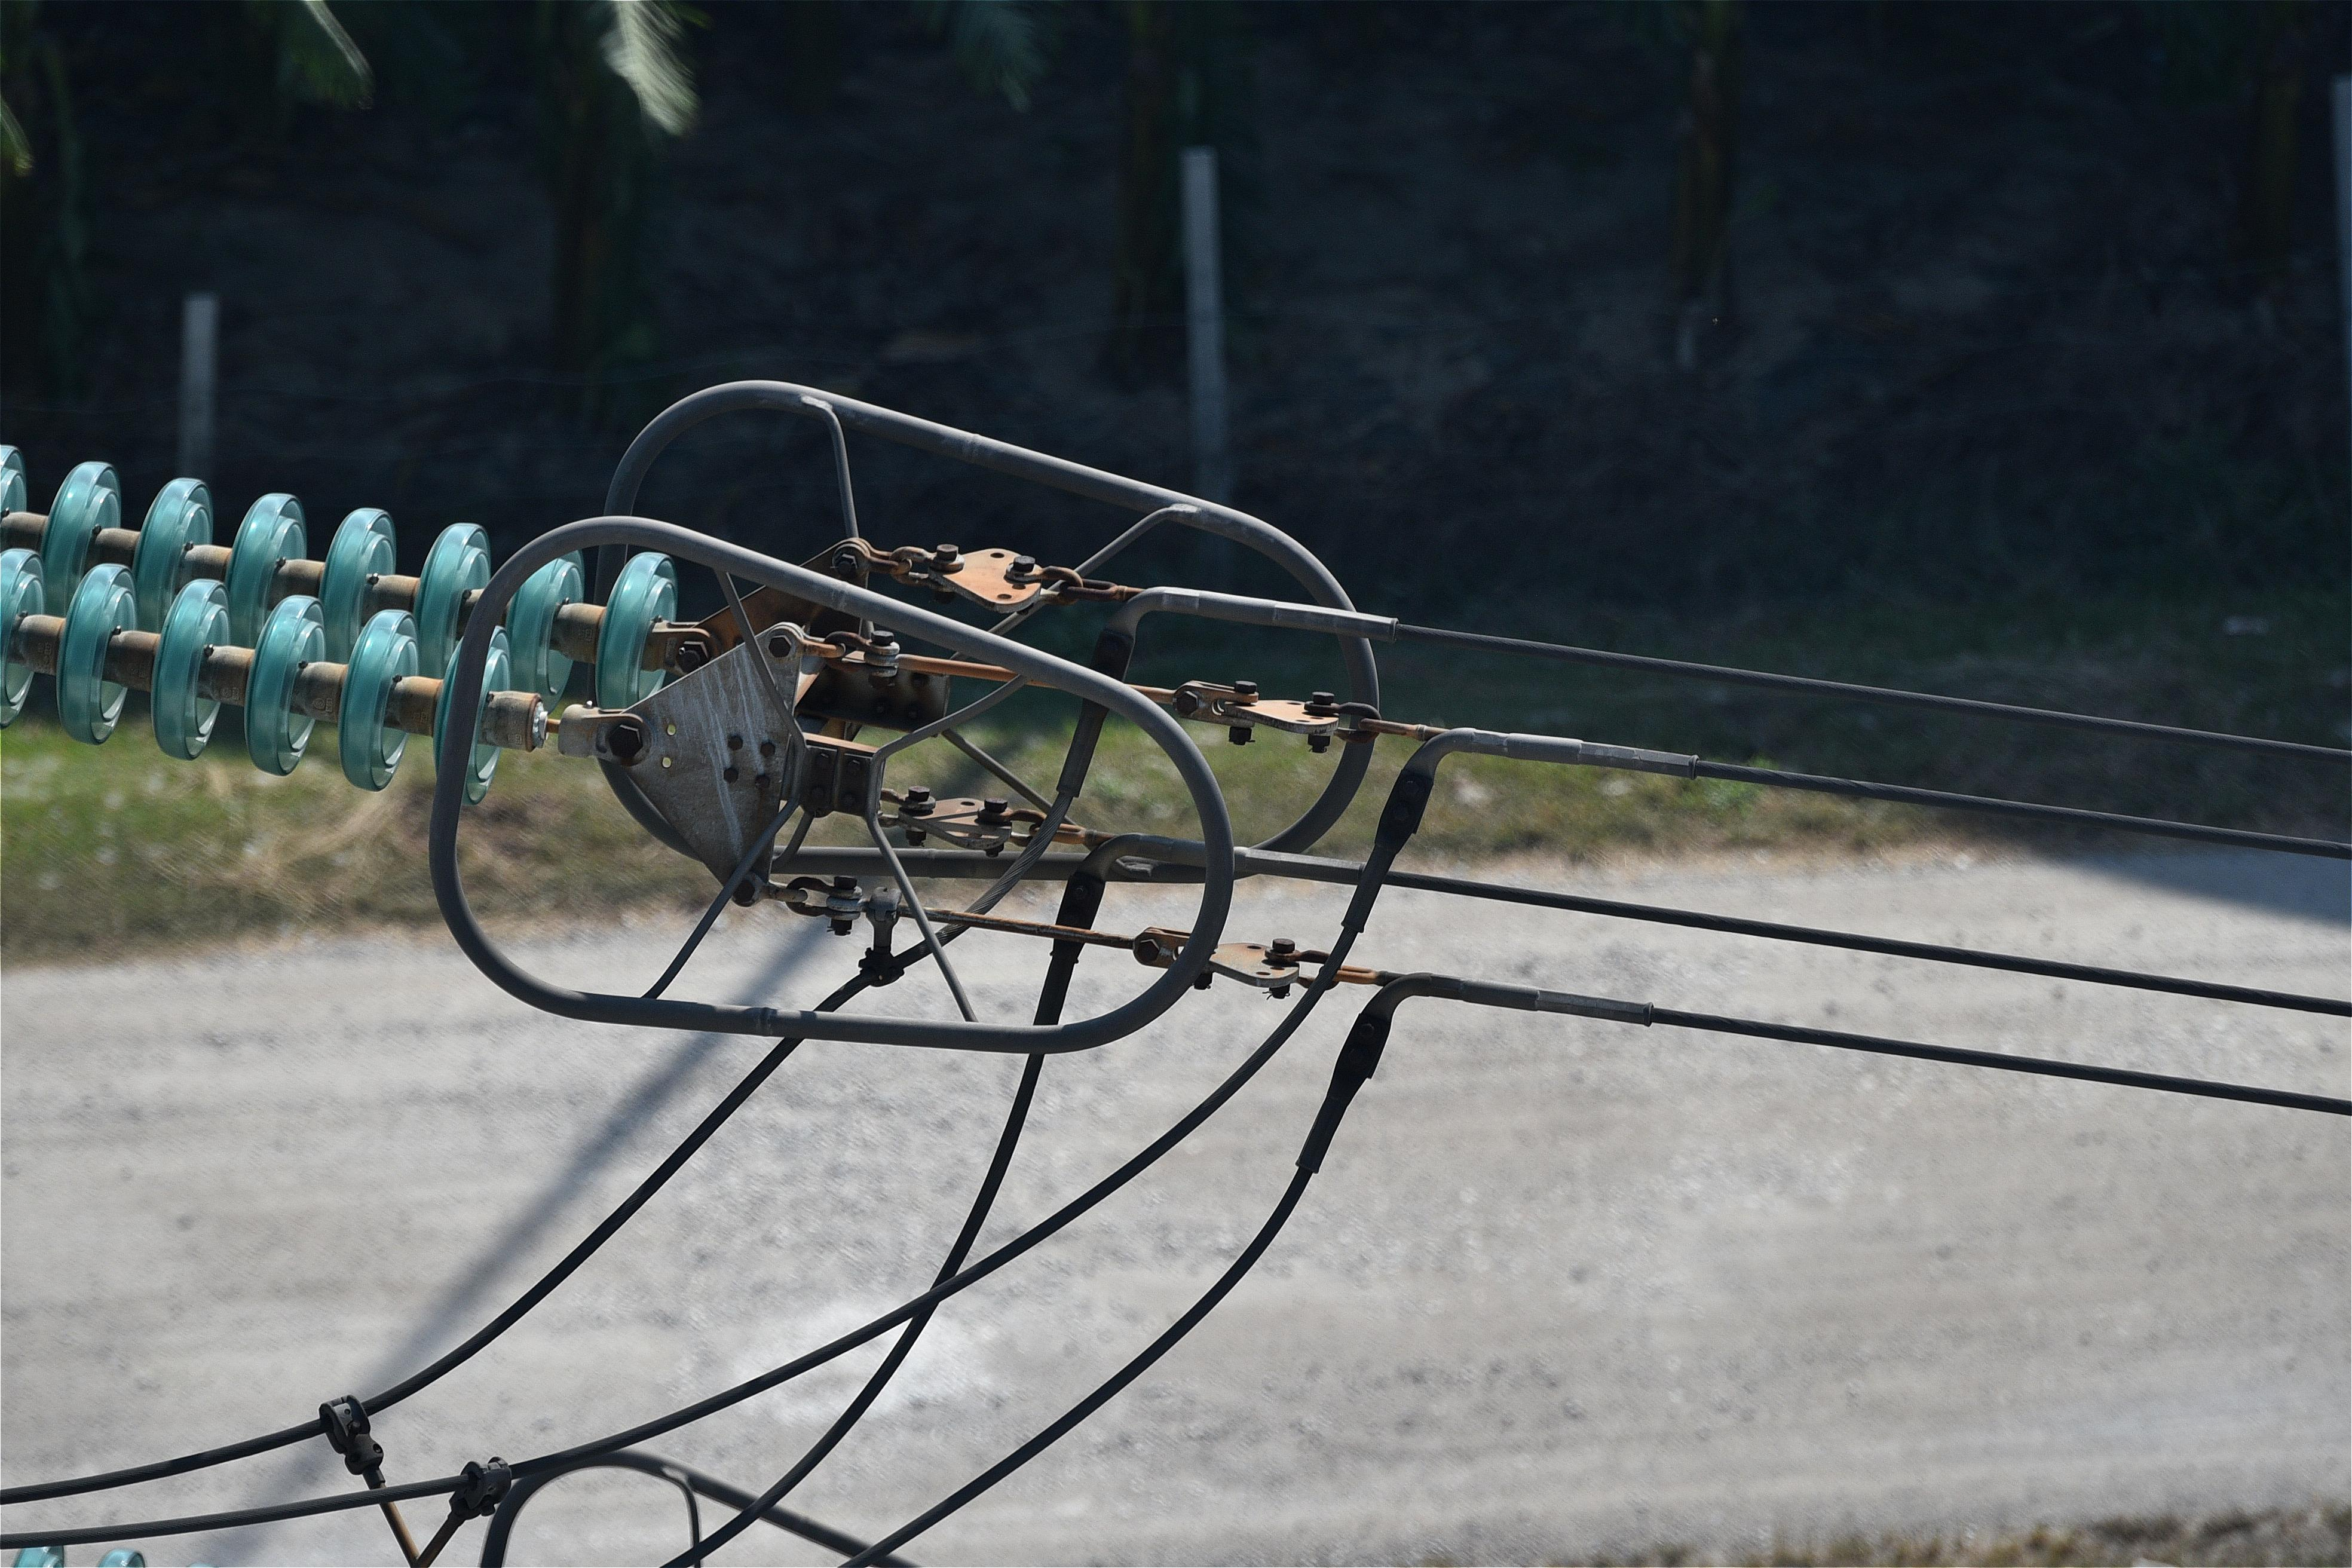insultor3: (0, 448, 689, 826)
